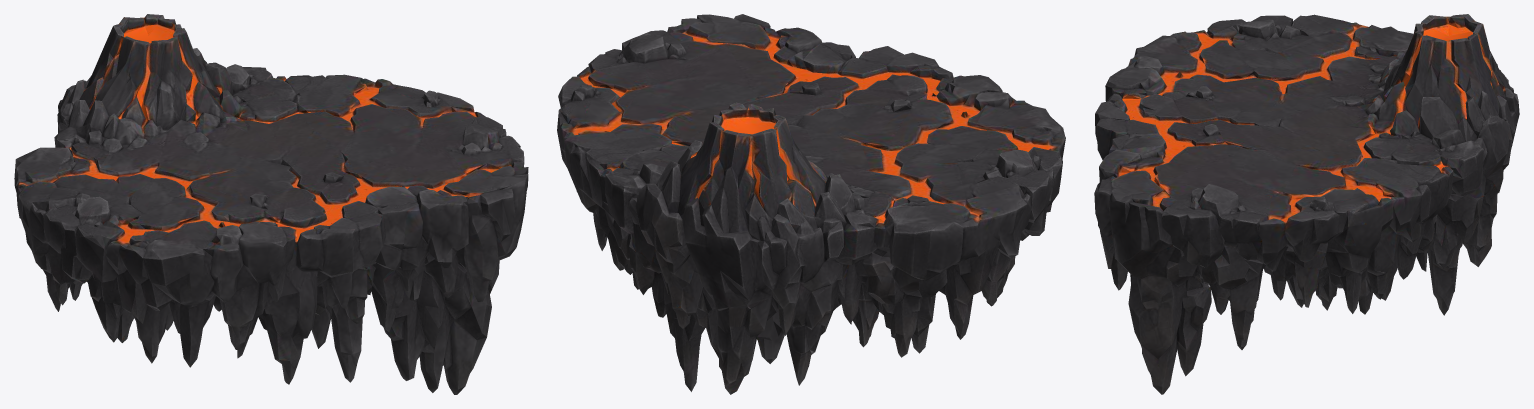
The model's file is isle-volcano.glb.
3 renders of one model, left to right at view 1: azimuth 30°, elevation 25°; view 2: azimuth 150°, elevation 25°; view 3: azimuth 270°, elevation 25°, orthographic. The views are drawn at different scales.
Size of the model in its own units: 1.9 by 1.25 by 1.64.
Materials: 1 (1 with a texture image).
